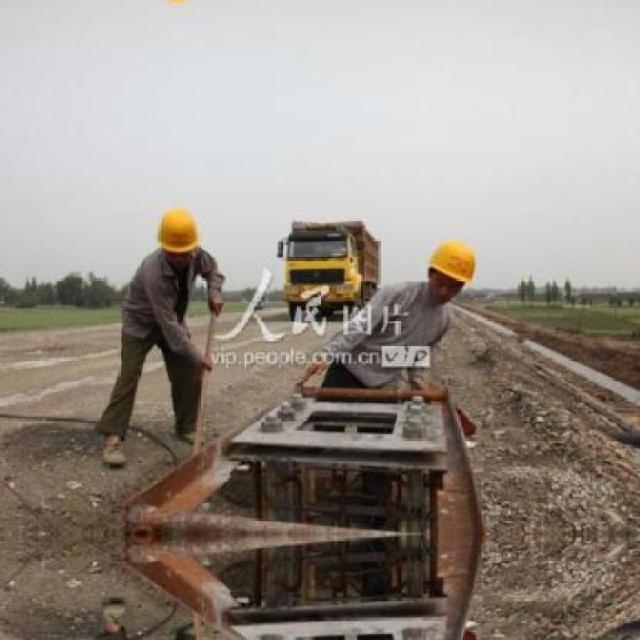helmet: (421, 229, 481, 306), (152, 200, 202, 268)
